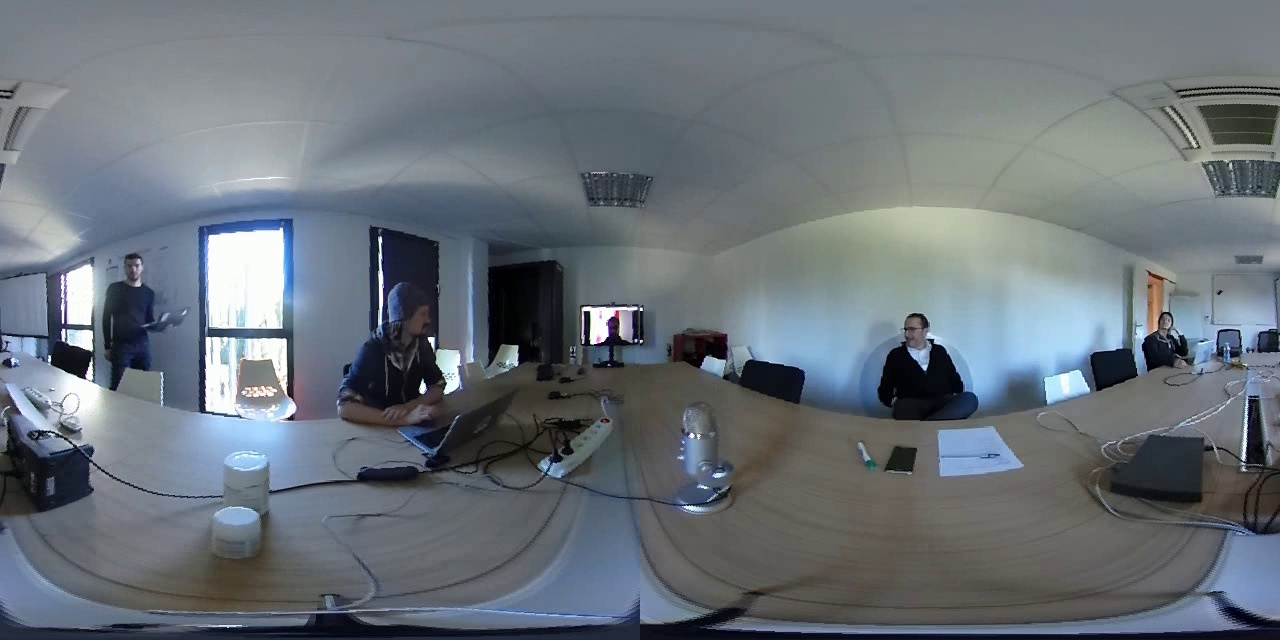person: (340, 267, 465, 419), (871, 300, 979, 422), (97, 237, 174, 370), (1143, 294, 1195, 365), (583, 301, 643, 346)
